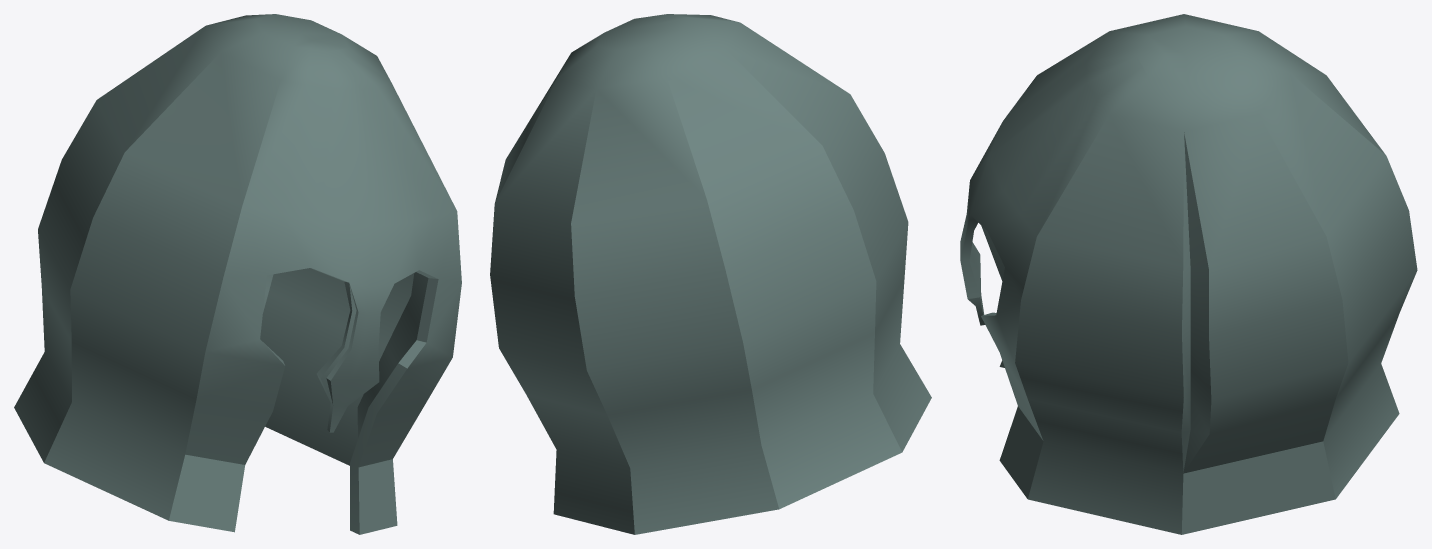
File: SM_Helmet_Human.fbx
3 views of the same model, side by side, from view 1: azimuth 30°, elevation 25°; view 2: azimuth 150°, elevation 25°; view 3: azimuth 270°, elevation 25° (orthographic).
Parts seen in each view (by area): view 1: Helmet_Human; view 2: Helmet_Human; view 3: Helmet_Human.
Boxes of the visible parts, x1,y1,x2,y2 form: Helmet_Human: (14, 14, 461, 534); Helmet_Human: (490, 14, 931, 534); Helmet_Human: (960, 14, 1417, 534).
Size of the model in its own units: 193 by 218 by 197.
